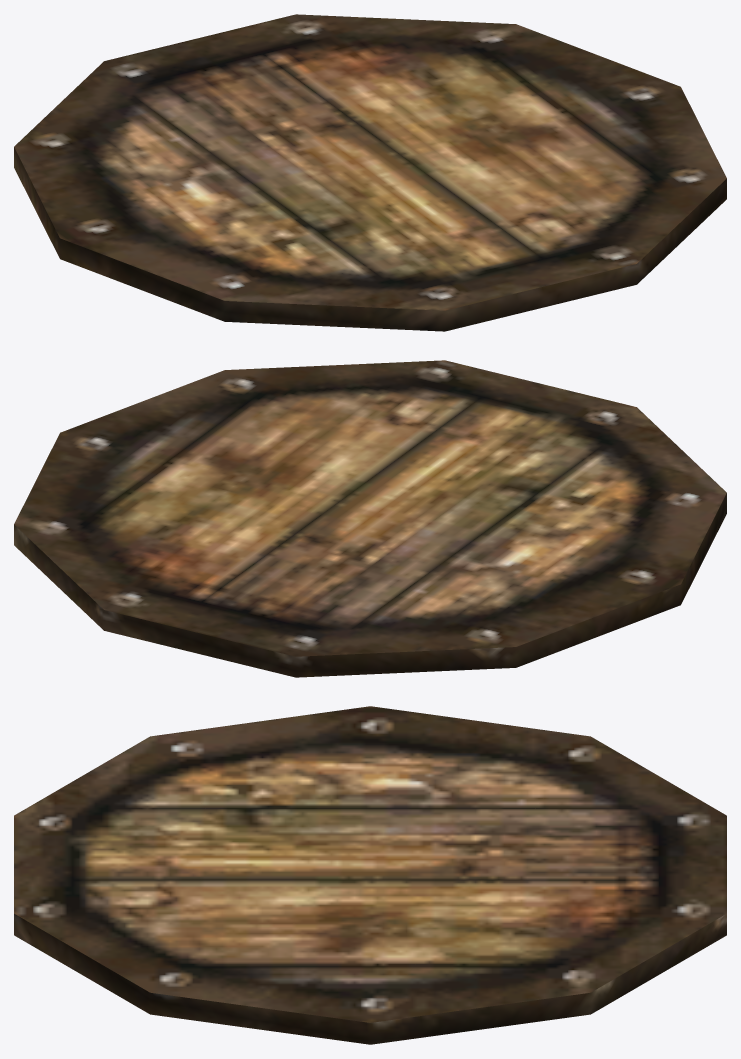
The model's file is msp.glb.
3 views of the same model, one above another, from view 1: azimuth 30°, elevation 25°; view 2: azimuth 150°, elevation 25°; view 3: azimuth 270°, elevation 25° (orthographic). The views are drawn at different scales.
Parts seen in each view (by area): view 1: msp-col; view 2: msp-col; view 3: msp-col.
Boxes of the visible parts, x1=… form: msp-col: x1=14, y1=14, x2=726, y2=331; msp-col: x1=14, y1=360, x2=726, y2=677; msp-col: x1=14, y1=706, x2=726, y2=1044.
Size of the model in its own units: 0.5224 by 0.0786 by 0.4968.
1 material, 1 textured.
